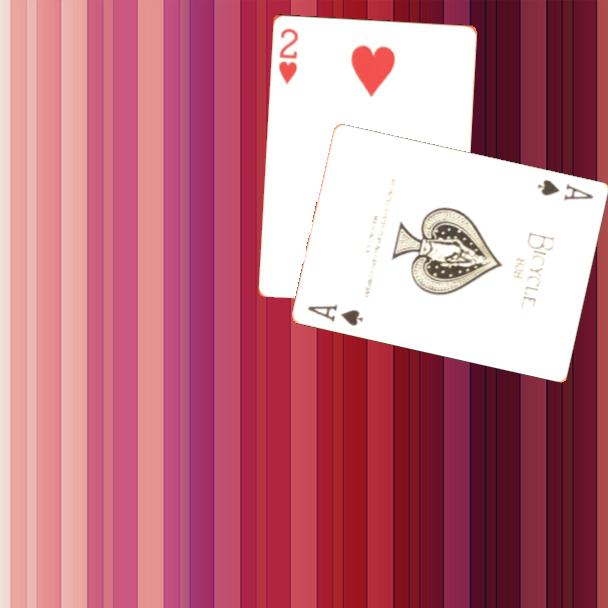h02: (275, 24, 301, 87)
s01: (305, 300, 366, 329), (535, 176, 597, 204)
